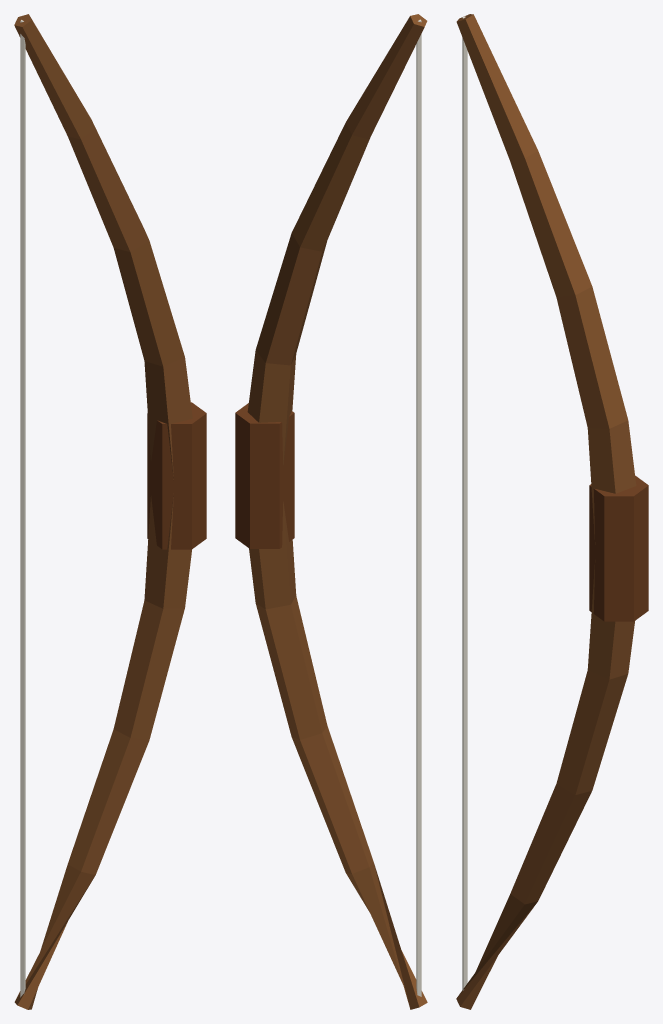
Rendered from bow.fbx.
3 views of the same model, side by side, from view 1: azimuth 30°, elevation 25°; view 2: azimuth 150°, elevation 25°; view 3: azimuth 330°, elevation 25° (orthographic).
Parts seen in each view (by area): view 1: bow; view 2: bow; view 3: bow.
Part boxes in pixels (bbox=[...]): bow: bbox=[14, 14, 206, 1009]; bow: bbox=[235, 14, 427, 1009]; bow: bbox=[456, 14, 648, 1009].
Bounding box in the file's own units: 0.2145 × 1.11 × 0.06.
